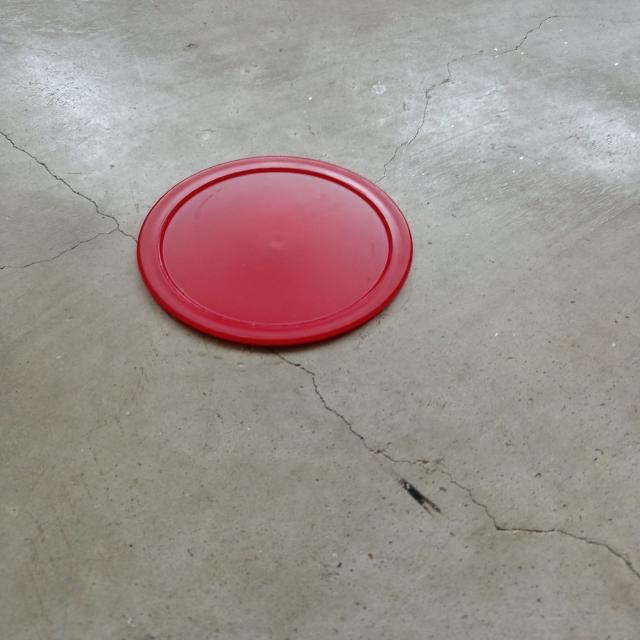chip: (134, 155, 416, 344)
